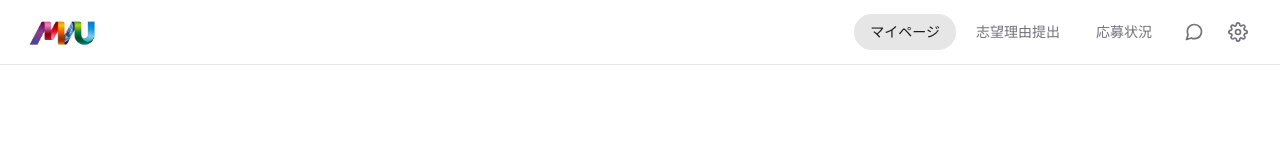
Test: MenuBar › does not show the admin link in the settings menu for non-admins
Click the button named "設定" at (1238, 32), box [1220,14,1256,50]
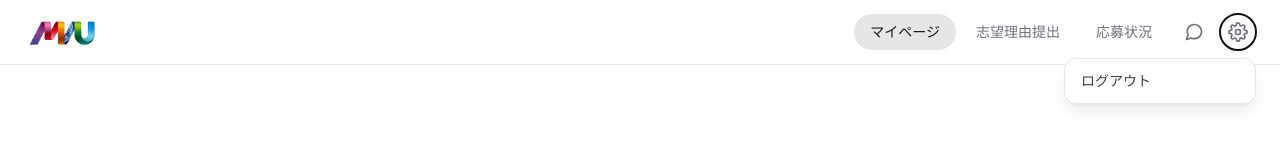
Result: the button "ログアウト" is shown at [1065,63,1255,99]
